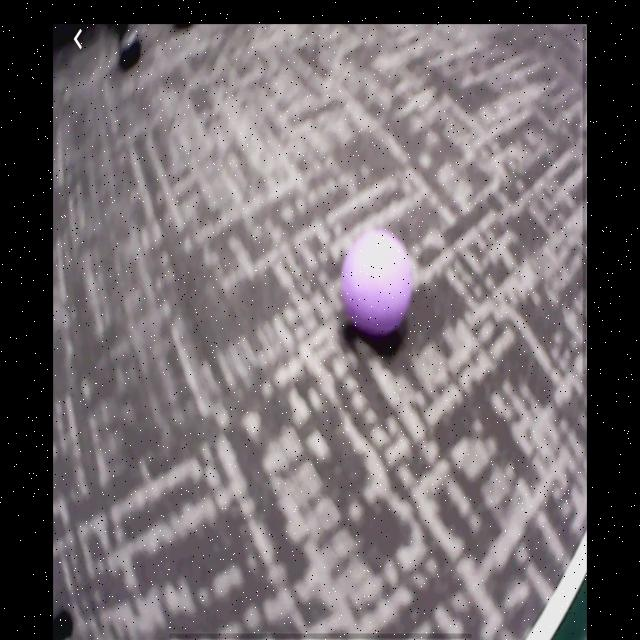ball: (343, 232, 413, 336)
